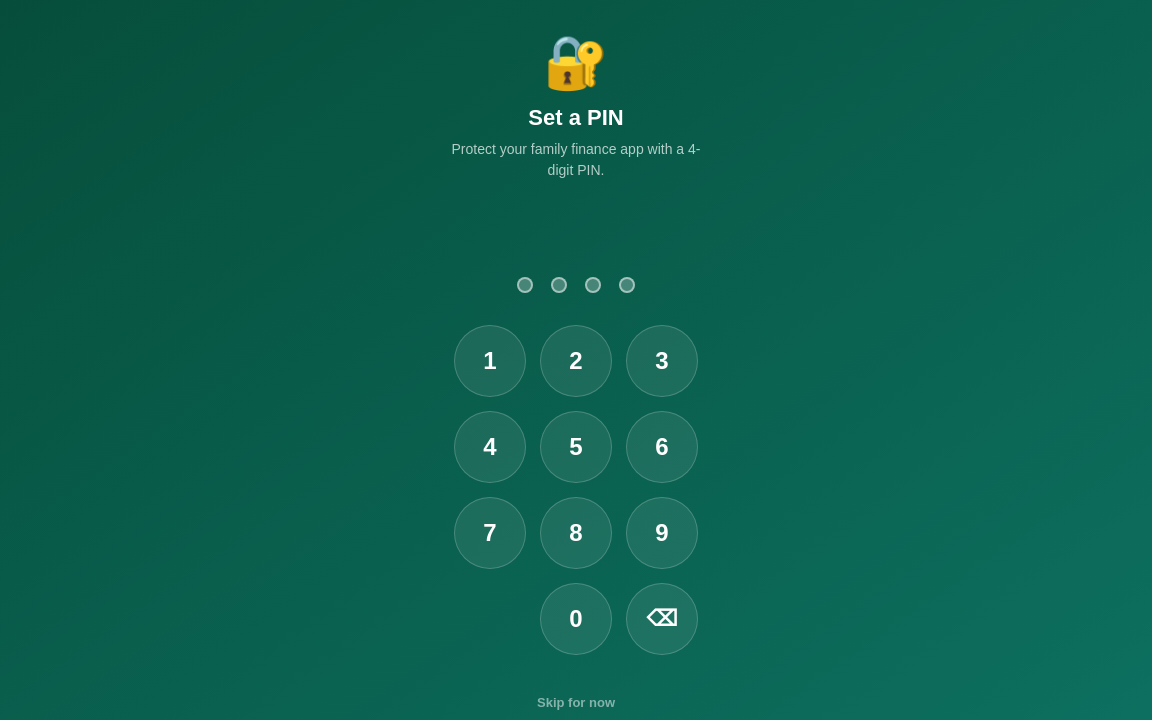
Scenario: PinSetupFlow › shows "Confirm your PIN" heading after entering a PIN
Click the button with test id "pin-key-1" at (490, 361), box [454,325,526,397]
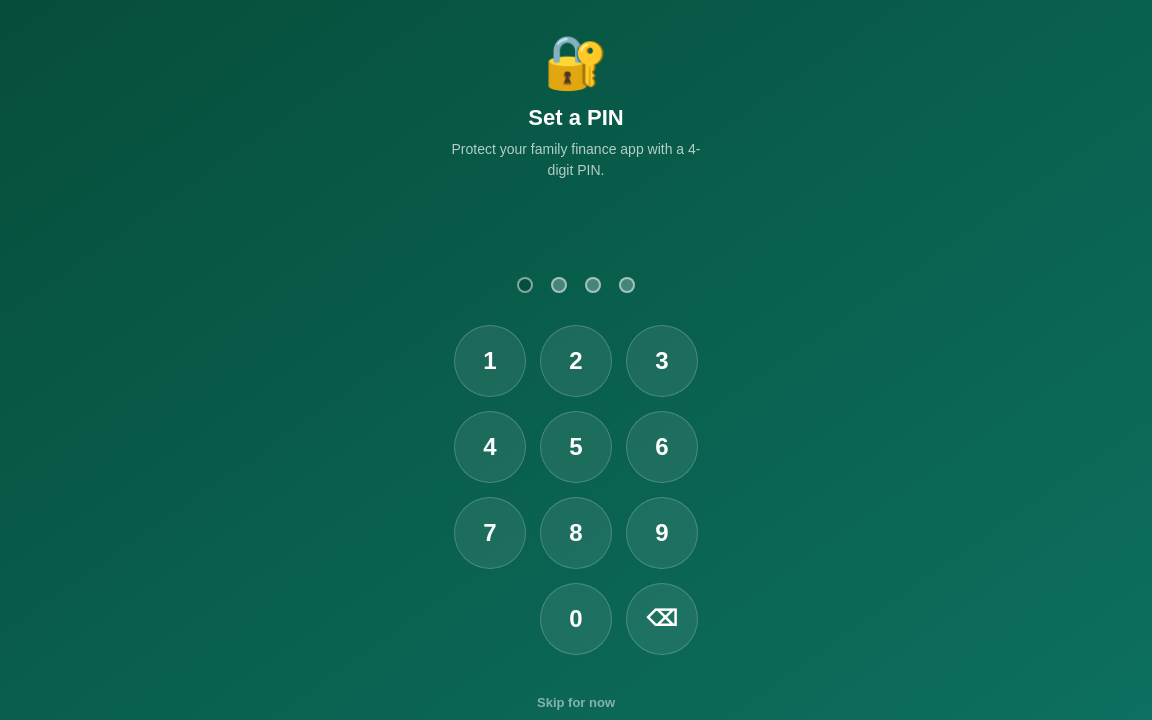
Click the button with test id "pin-key-2" at (576, 361), box [540,325,612,397]
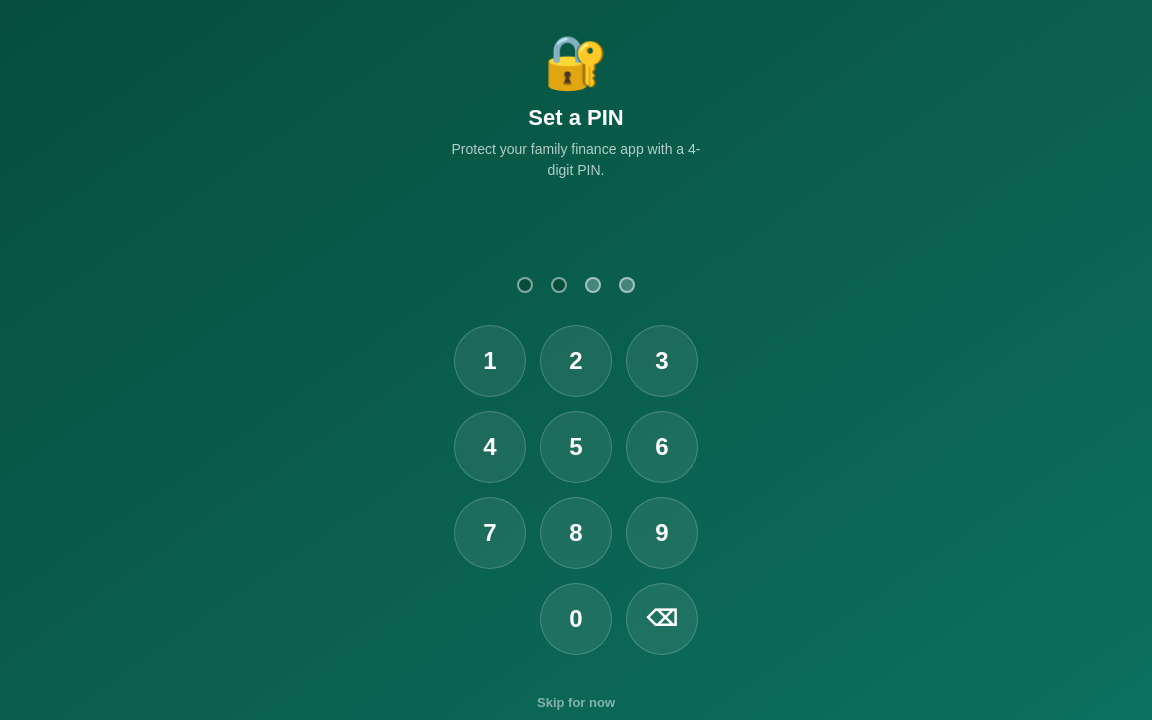
Click the button with test id "pin-key-3" at (662, 361), box [626,325,698,397]
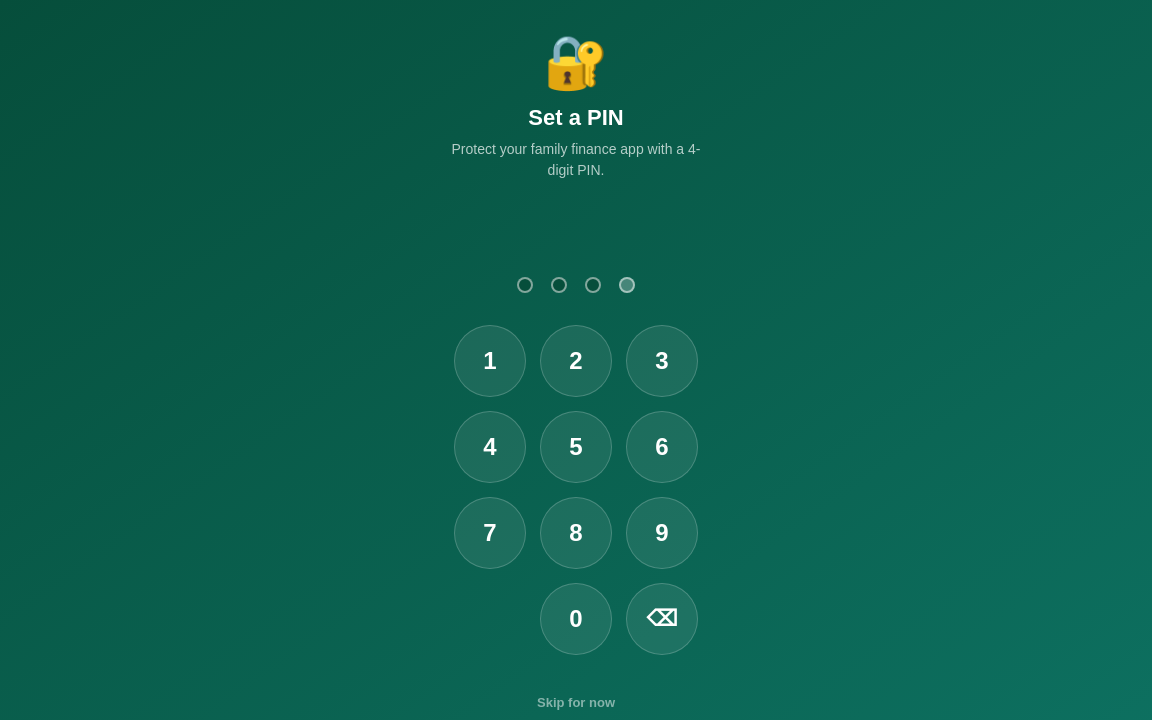
Click the button with test id "pin-key-4" at (490, 447), box [454,411,526,483]
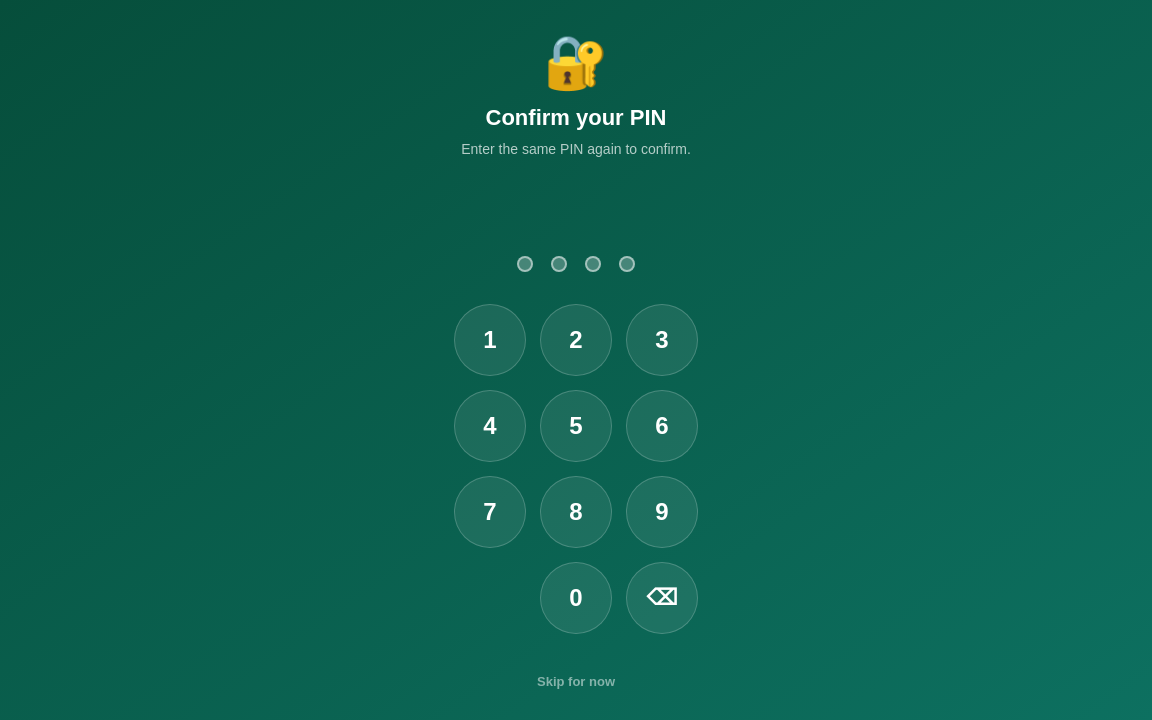
Expected: the text "Confirm your PIN" is shown, [486,105,666,130]
